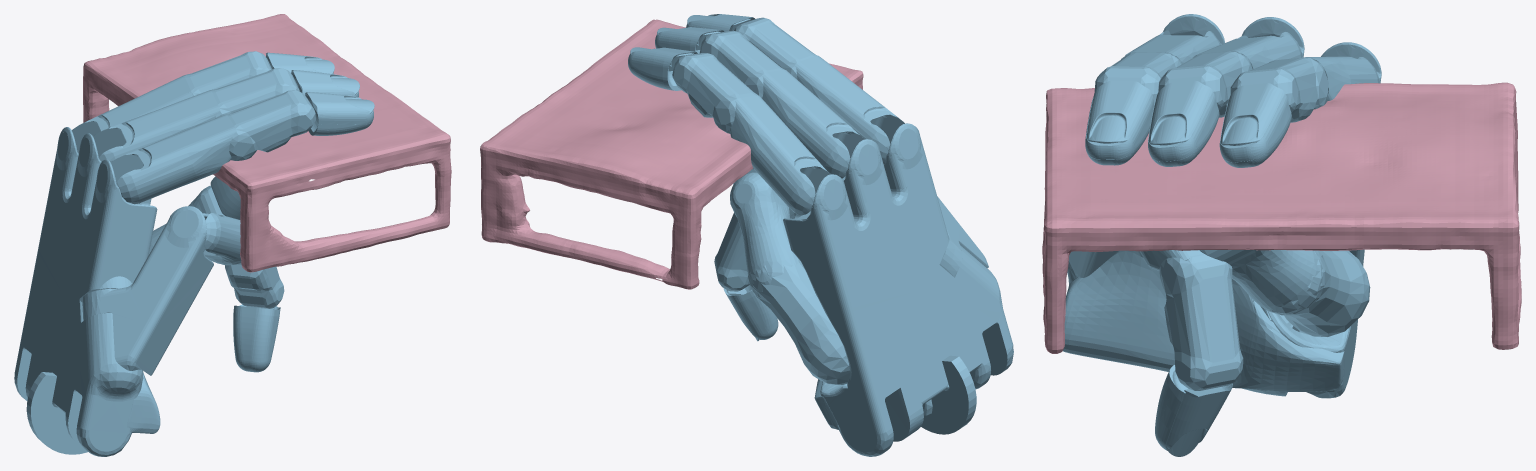
The picture shows the model from 3 angles, left to right: view 1: azimuth 30°, elevation 25°; view 2: azimuth 150°, elevation 25°; view 3: azimuth 270°, elevation 25°; orthographic projection. The views are drawn at different scales.
Visible parts, largest first — view 1: hand, world; view 2: hand, world; view 3: hand, world.
Boxes of the visible parts, x1,y1,x2,y2 form: hand: [14, 51, 374, 456]; world: [83, 14, 451, 272]; hand: [628, 14, 1013, 456]; world: [480, 19, 863, 289]; hand: [1063, 14, 1381, 456]; world: [1042, 82, 1521, 353].
Bounding box in the file's own units: 0.1647 × 0.1423 × 0.1322.
